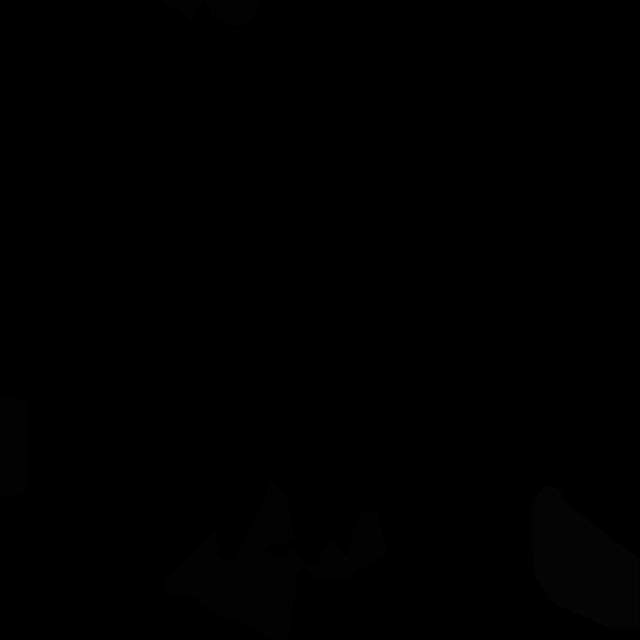cardboard: (164, 473, 388, 640), (0, 392, 30, 497), (206, 0, 263, 27), (160, 0, 204, 22)
soft_plastic: (531, 486, 640, 630)
